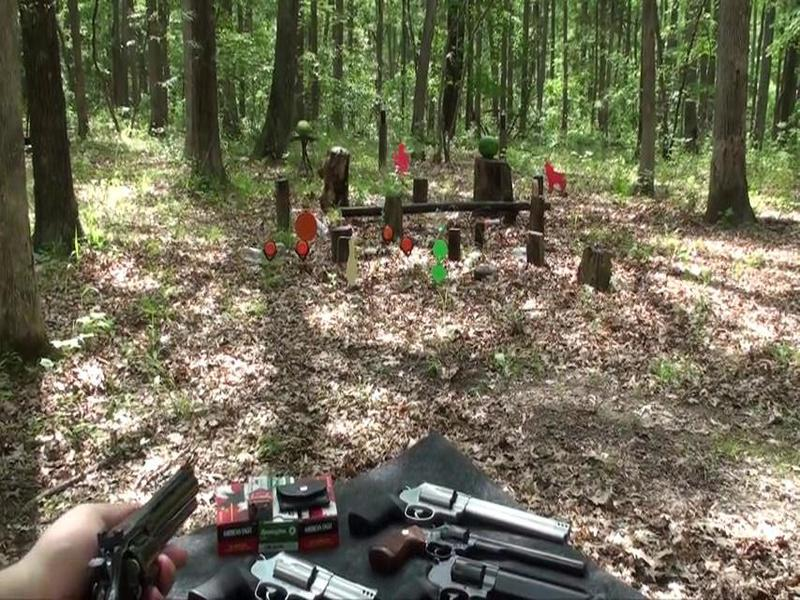Revolver: (64, 430, 203, 600)
